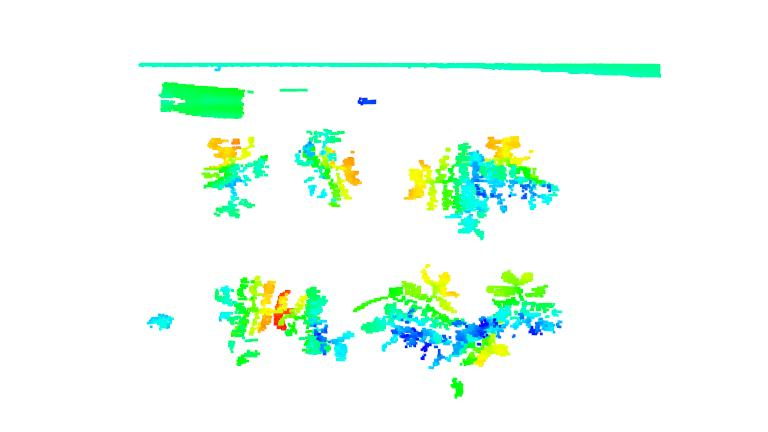chickpea: (356, 265, 488, 400), (402, 142, 487, 243), (206, 275, 284, 372), (284, 286, 360, 372), (489, 271, 571, 350), (204, 129, 275, 218), (480, 132, 559, 210), (292, 130, 366, 209)
